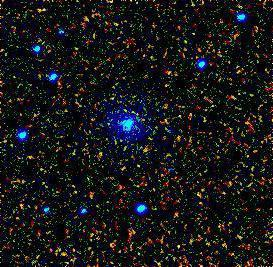star: (155, 56, 185, 86)
